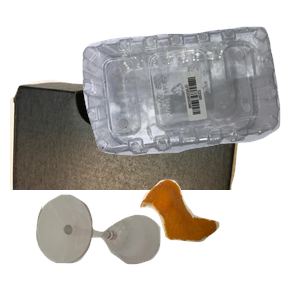cardboard: (10, 77, 245, 257)
glass: (34, 192, 187, 300)
plastic: (80, 24, 300, 172)
trash: (137, 177, 300, 300)
